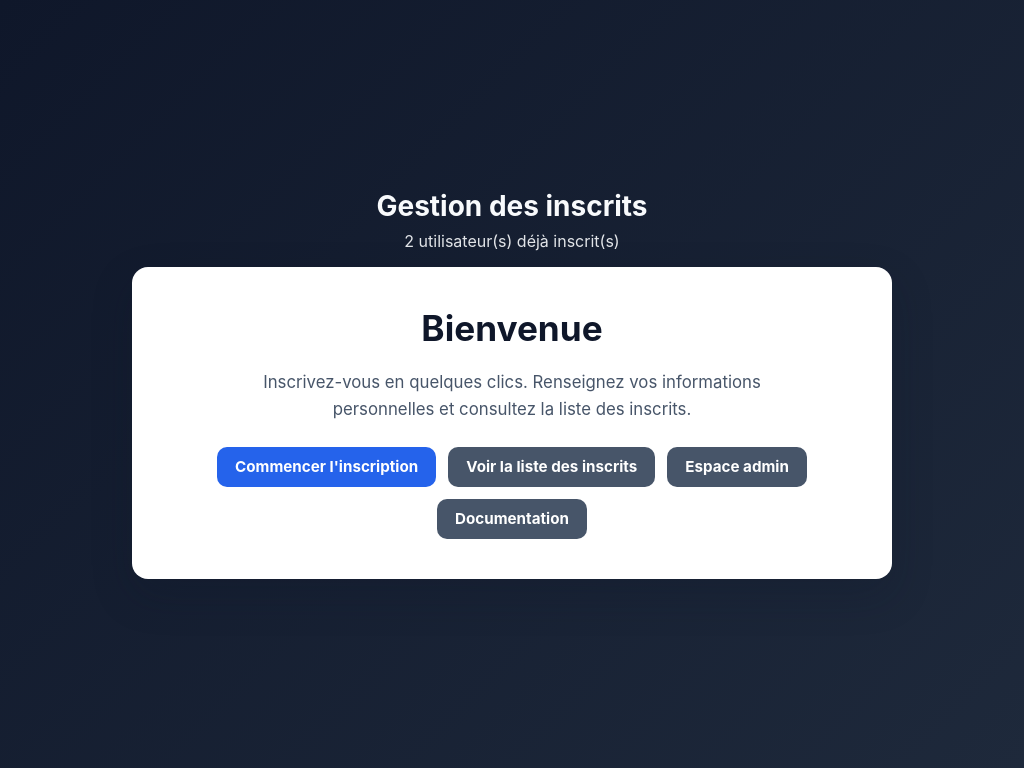
it: Liste des inscrits › affiche plusieurs inscrits retournes par l api
Click the link with test id "go-to-list" at (552, 467), box x1=448 y1=447 x2=655 y2=487
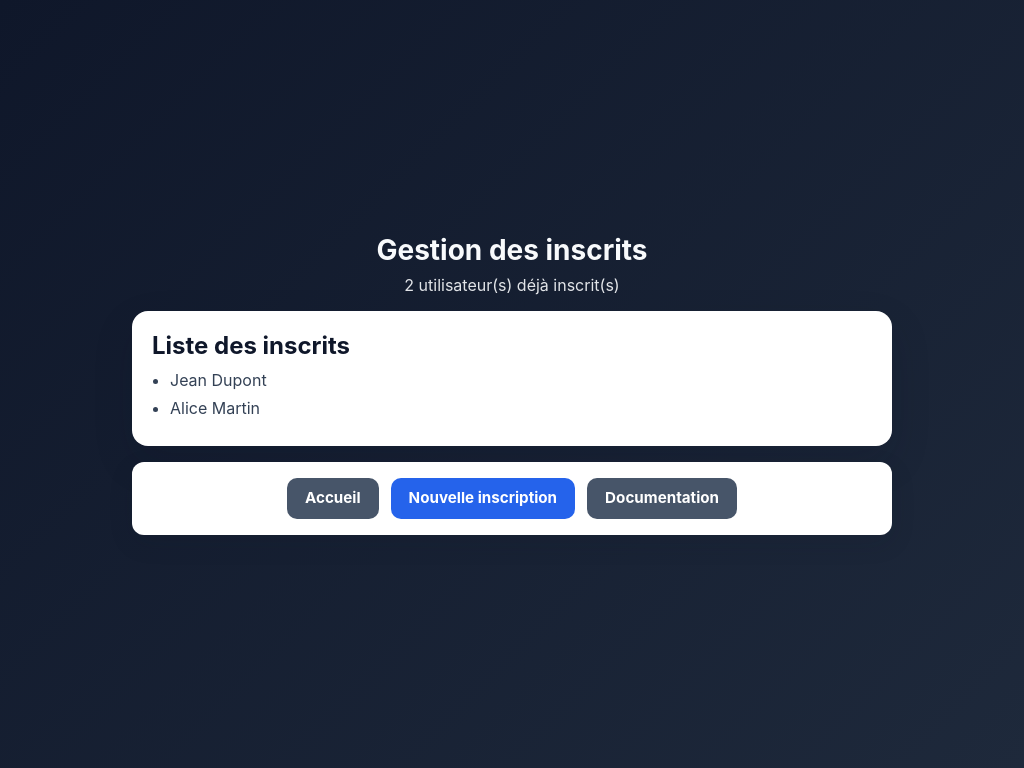
Now the element with test id "list-page" is shown, box x1=132 y1=311 x2=892 y2=534
Now the number of list items with test id "registration-item" is 2, box x1=170 y1=370 x2=267 y2=390; x1=170 y1=398 x2=260 y2=418
